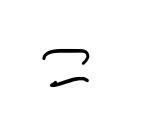eqv: (42, 49, 90, 87)
